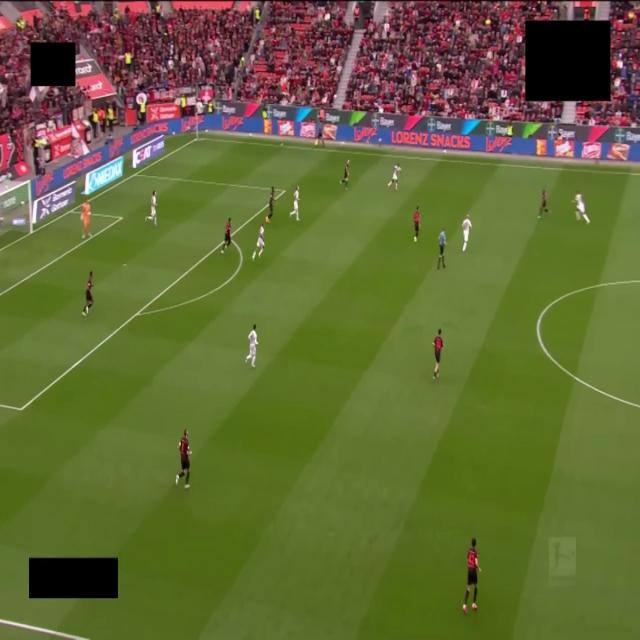player: (463, 538, 480, 614), (176, 429, 191, 488), (433, 329, 442, 381), (574, 192, 589, 223), (246, 325, 257, 367), (83, 272, 93, 316), (252, 225, 264, 261), (538, 189, 551, 217), (221, 218, 231, 254), (82, 200, 91, 239), (146, 191, 156, 225), (462, 216, 471, 252), (388, 164, 400, 191), (290, 186, 299, 221), (266, 186, 274, 223), (340, 160, 349, 189), (414, 206, 419, 241)
referee: (438, 228, 446, 269)
